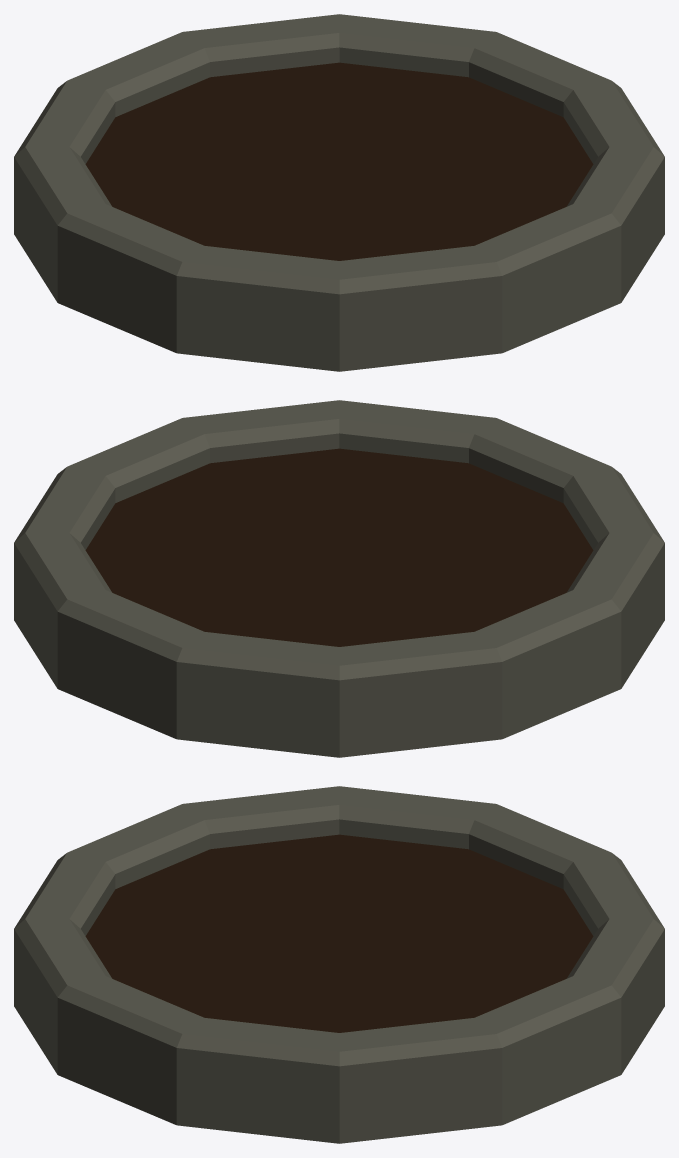
Rendered from prop_gd_flower_bed_2.glb.
The picture shows the model from 3 angles, top to bottom: view 1: azimuth 30°, elevation 25°; view 2: azimuth 150°, elevation 25°; view 3: azimuth 270°, elevation 25°; orthographic projection.
Parts seen in each view (by area): view 1: FlowerBed3; view 2: FlowerBed3; view 3: FlowerBed3.
Boxes of the visible parts, x1,y1,x2,y2 form: FlowerBed3: (14,14,664,371); FlowerBed3: (14,400,664,757); FlowerBed3: (14,786,664,1143).
Size of the model in its own units: 3.4 by 0.5035 by 3.4.
